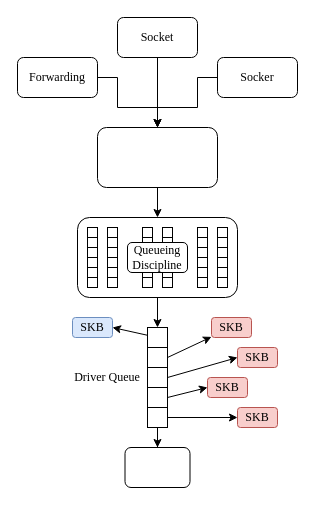
The diagram is 315 pixels wide and 505 high, and some of its shapes have lost their labels. Here are the shapes that lost their labels. From the top down, the centre of each, then its label:
(157,157): IP STACK
(157,467): NIC
